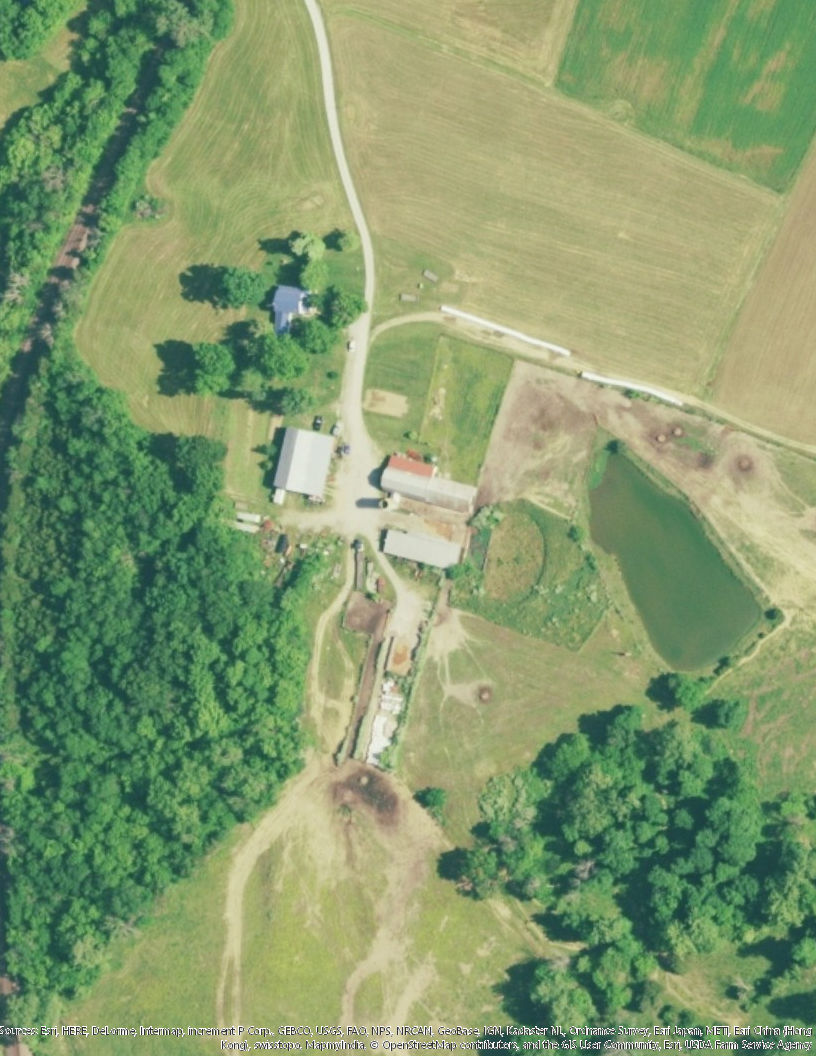cafo: (379, 452, 479, 516), (379, 528, 464, 575)
